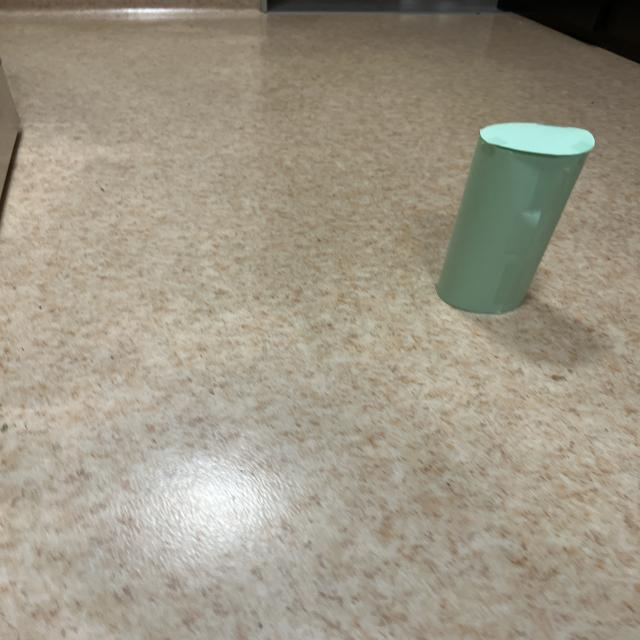meta: (436, 123, 594, 313)
